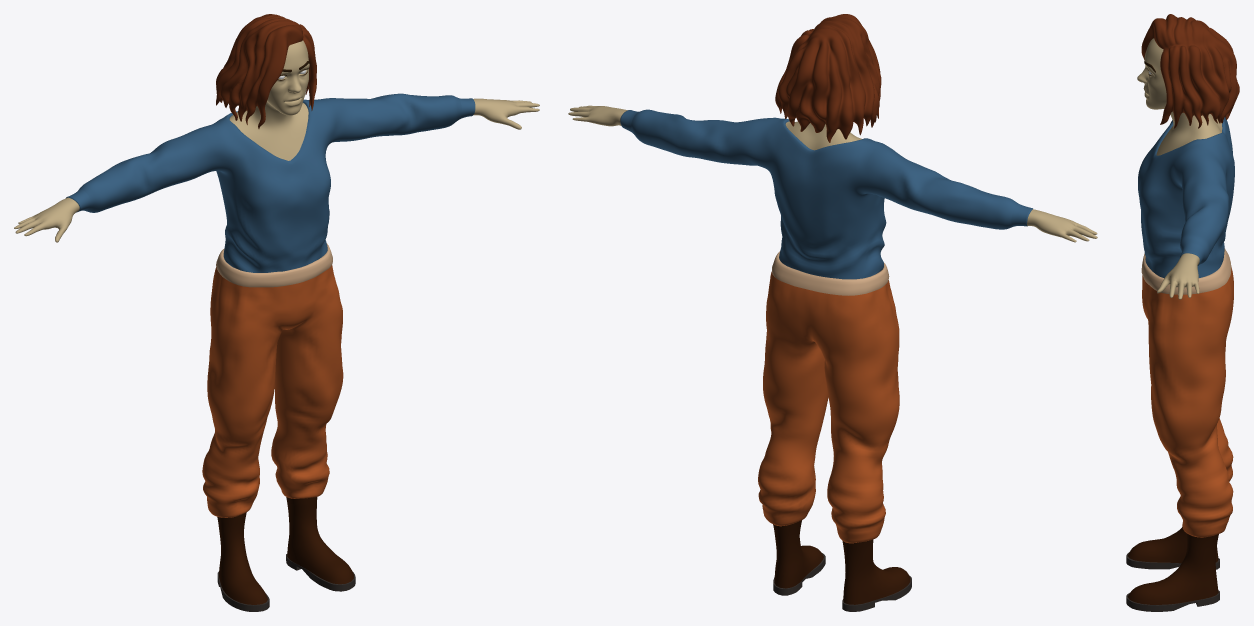
The model's file is Nell_Mesh.fbx.
3 renders of one model, left to right at view 1: azimuth 30°, elevation 25°; view 2: azimuth 150°, elevation 25°; view 3: azimuth 270°, elevation 25°, orthographic.
Visible parts, largest first — view 1: Object001; view 2: Object001; view 3: Object001.
Part boxes in pixels (x1=…): Object001: x1=14, y1=14, x2=539, y2=611; Object001: x1=568, y1=14, x2=1097, y2=611; Object001: x1=1126, y1=14, x2=1239, y2=611.
Bounding box in the file's own units: 161 × 166 × 30.35.
